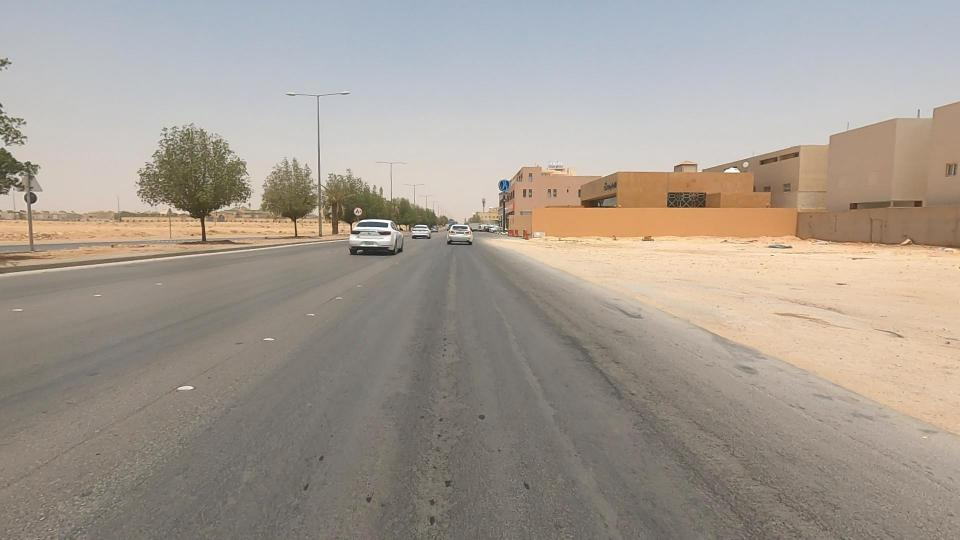GARBAGE: (755, 232, 802, 266)
